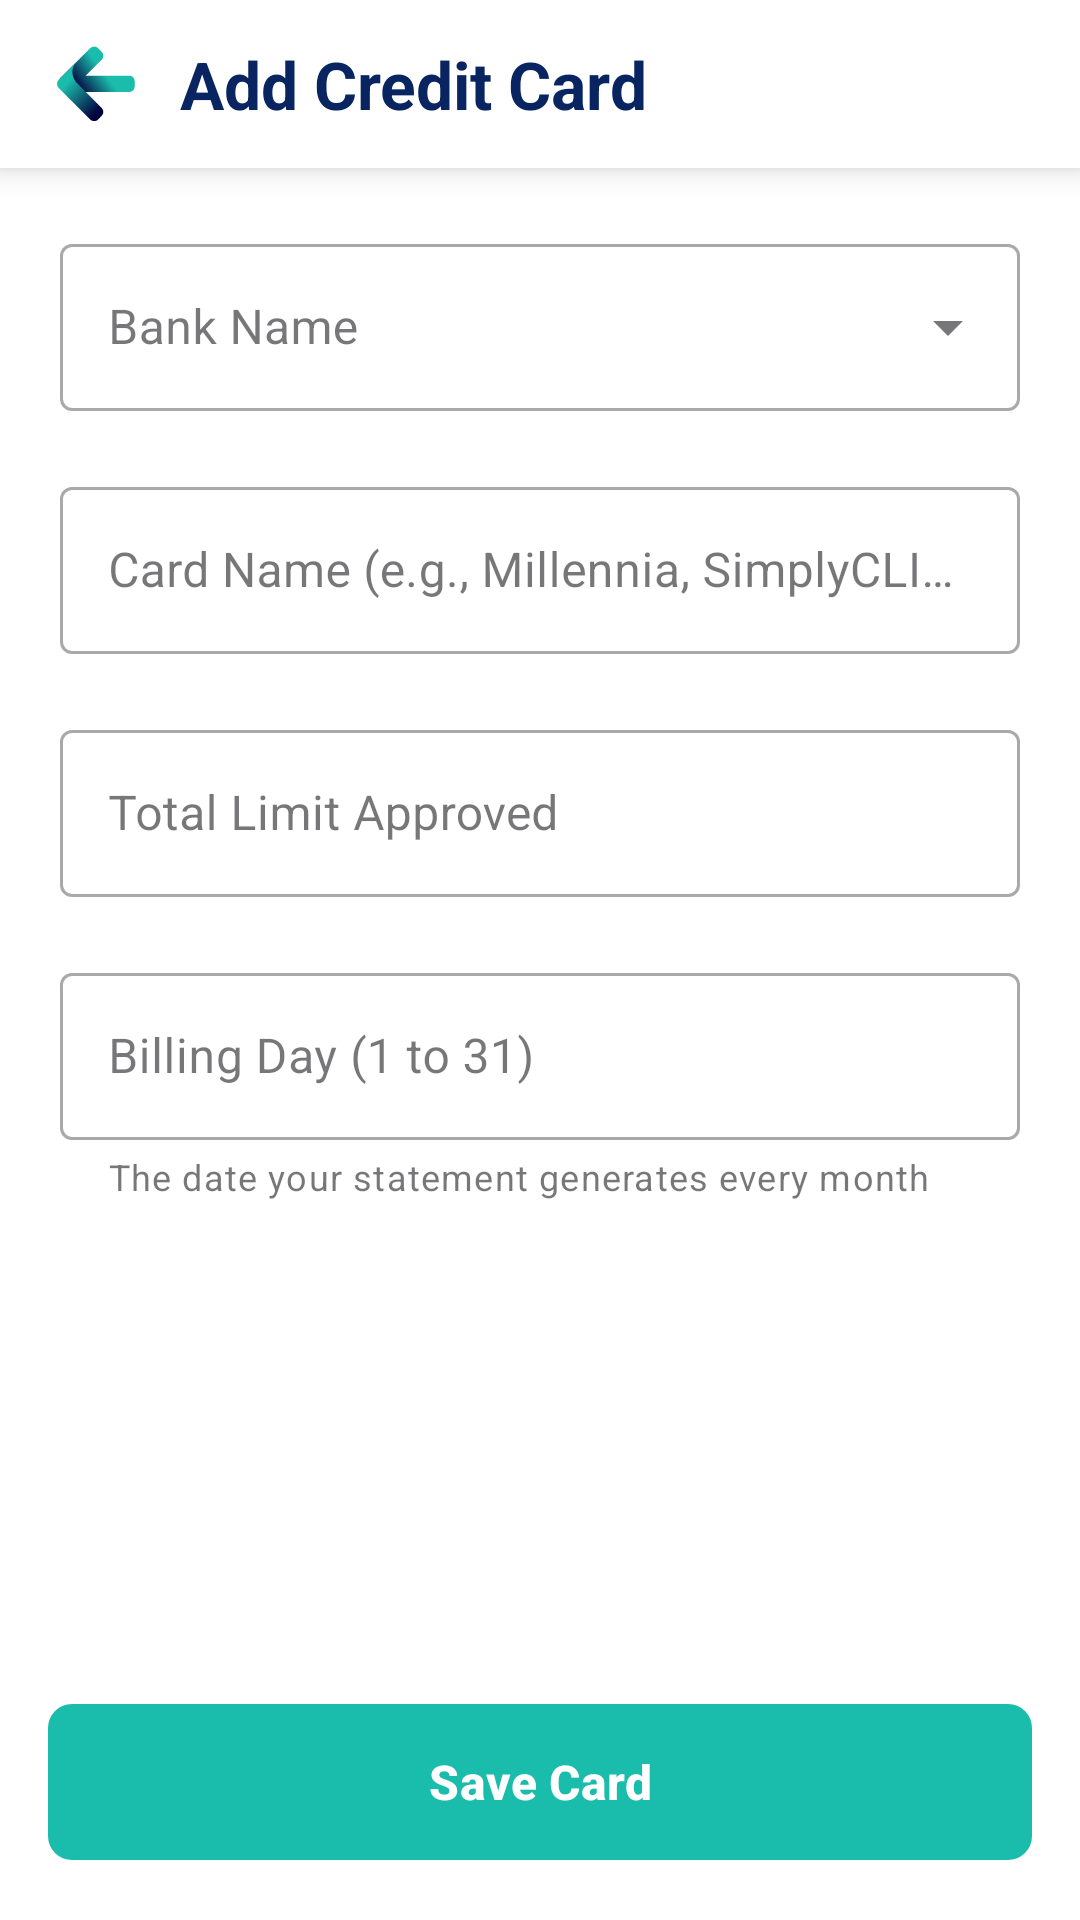

Where icons sit on this 1080px x 1920px app screen, as {"left": x1, "top": y1, "right": x2, "bottom": y2}:
back: {"left": 57, "top": 46, "right": 135, "bottom": 121}
